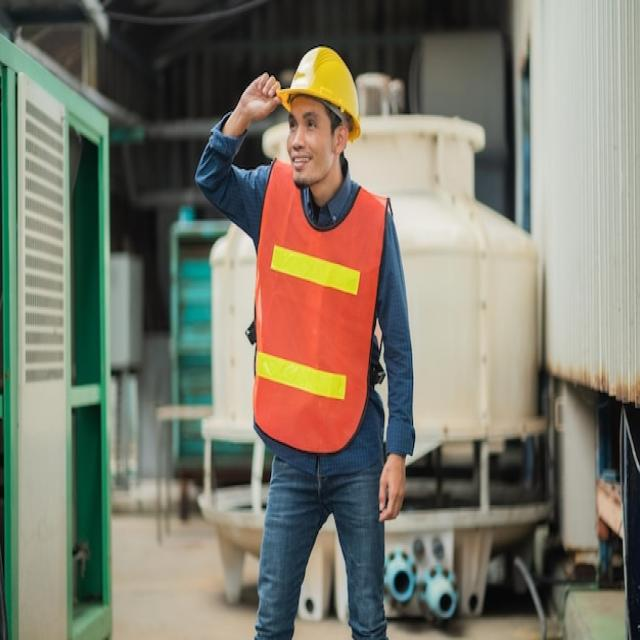helmet: (279, 36, 365, 134)
no-goggles: (278, 107, 354, 151)
vest: (244, 162, 386, 452)
